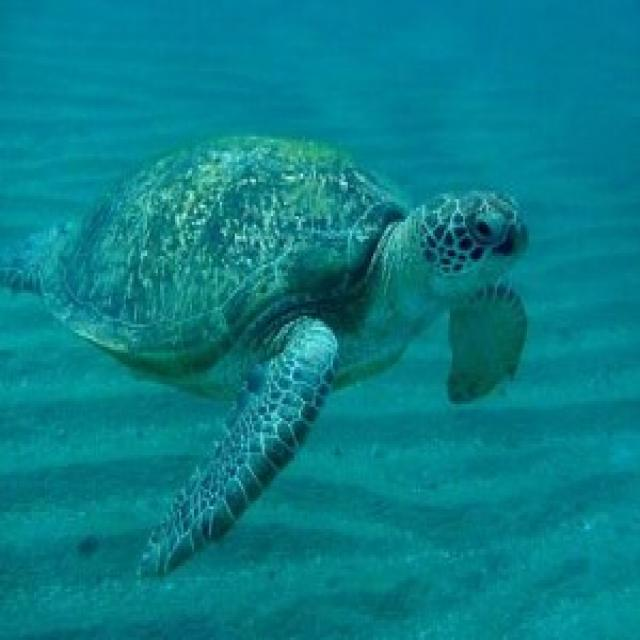Sea turtle: (0, 104, 582, 592)
